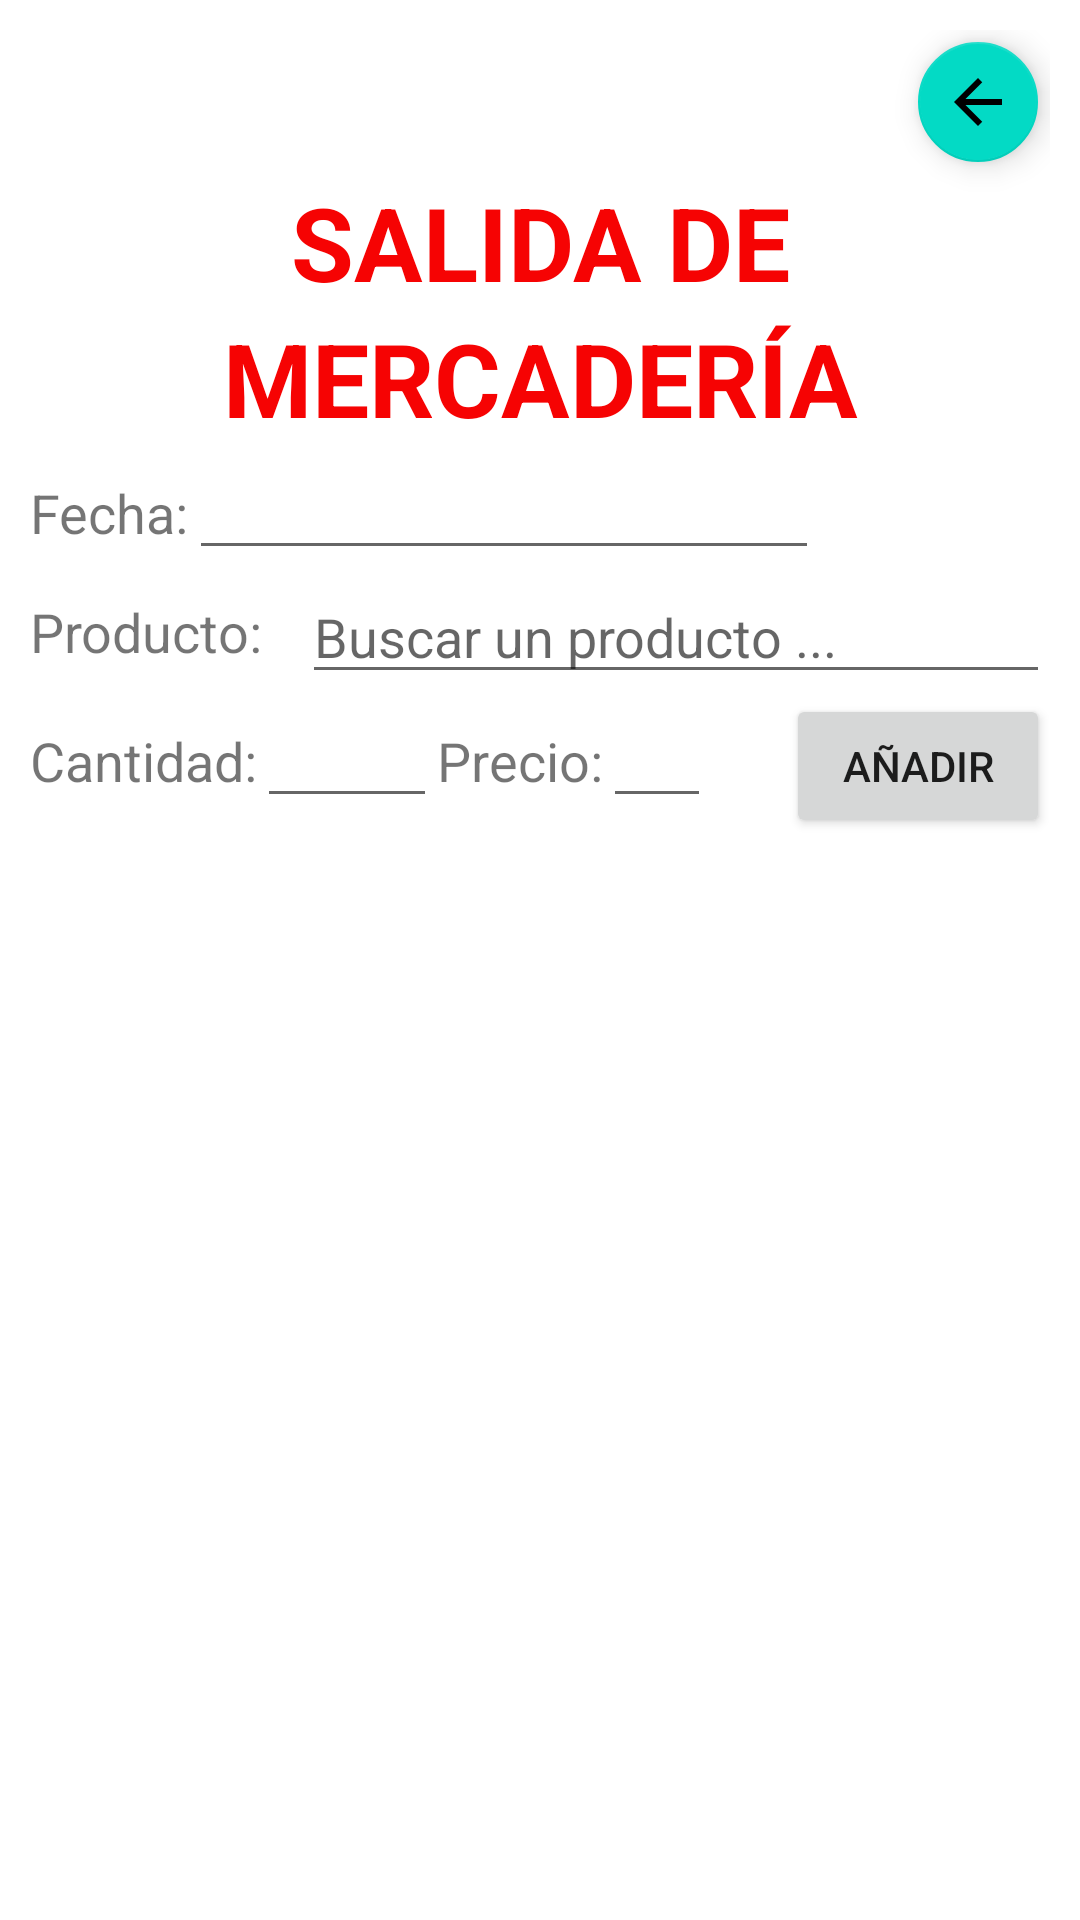

Where icons sit on this 1080px×1920px app screen, as bbox(x1, y1, x2, y2):
flecha atras: bbox(918, 42, 1040, 162)
